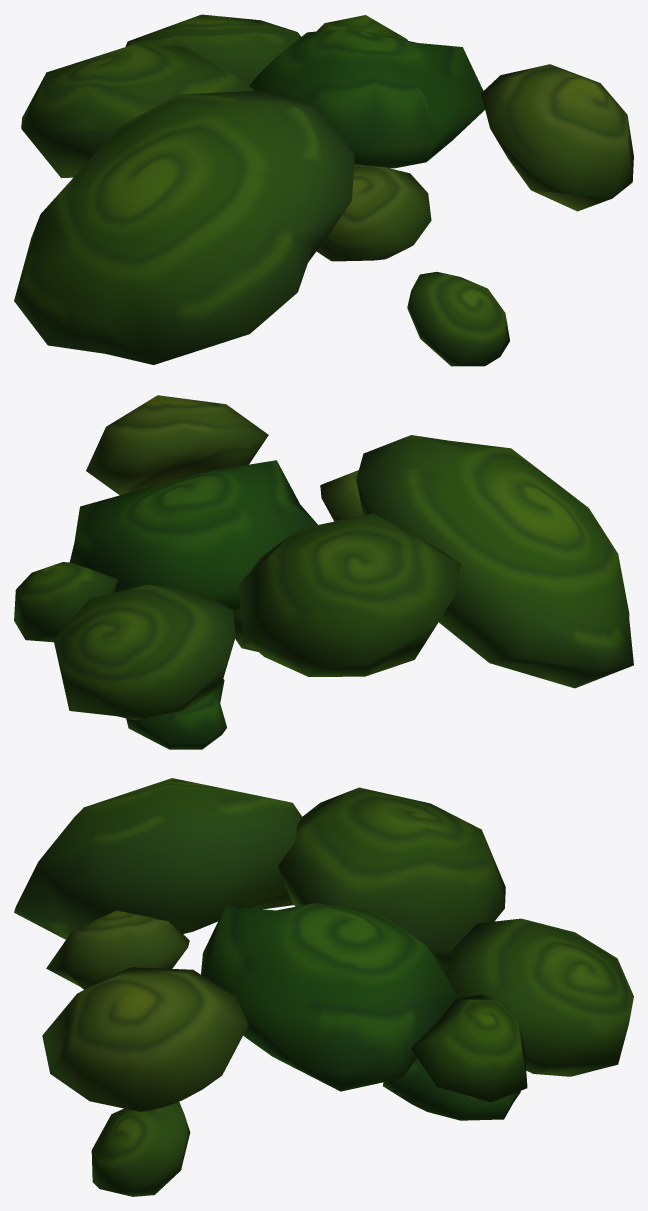
Rendered from BigTreeCrown.fbx.
3 views of the same model, one above another, from view 1: azimuth 30°, elevation 25°; view 2: azimuth 150°, elevation 25°; view 3: azimuth 270°, elevation 25° (orthographic). The views are drawn at different scales.
Parts seen in each view (by area): view 1: TreeCrown; view 2: TreeCrown; view 3: TreeCrown.
Boxes of the visible parts, <box> form: TreeCrown: <box>14,14,633,366</box>; TreeCrown: <box>14,395,633,749</box>; TreeCrown: <box>14,778,633,1196</box>.
Bounding box in the file's own units: 2465 × 1163 × 2227.
Materials: 1 (1 with a texture image).
